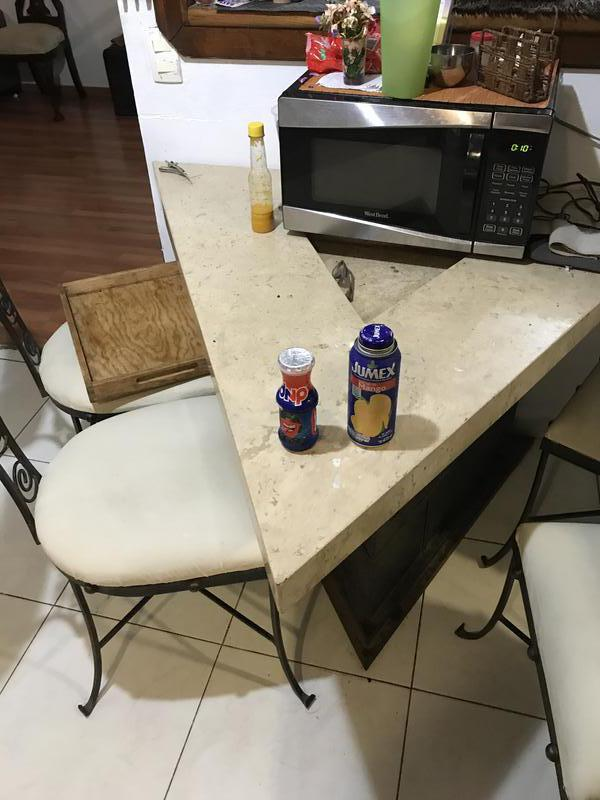danup: (275, 349, 321, 452)
jugo_jumex: (349, 323, 400, 450)
